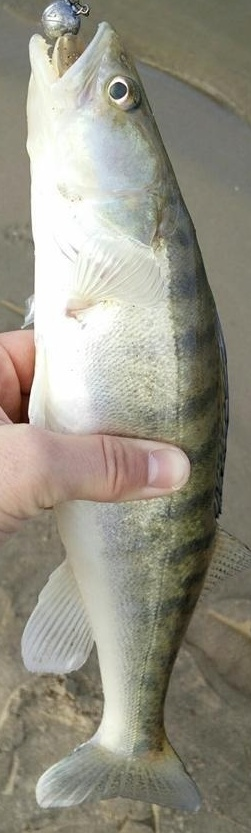Sander lucioperca: (20, 20, 231, 813)
